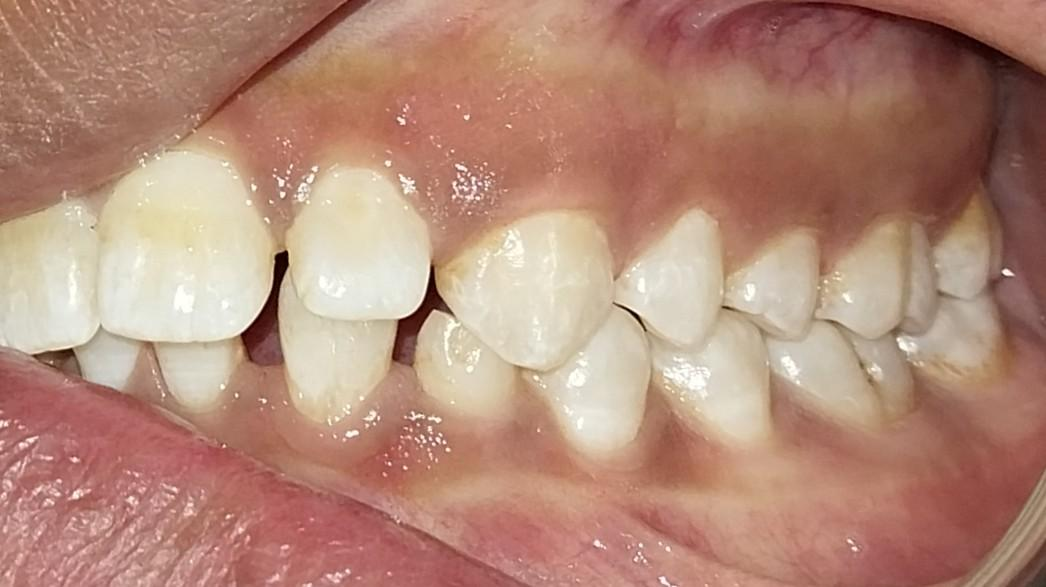D: (773, 317, 915, 426)
